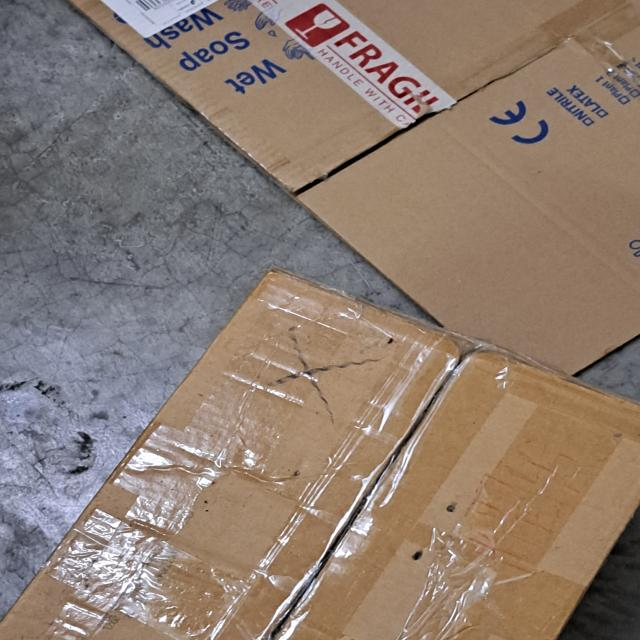cardboard: (0, 273, 640, 640), (65, 0, 640, 375)
